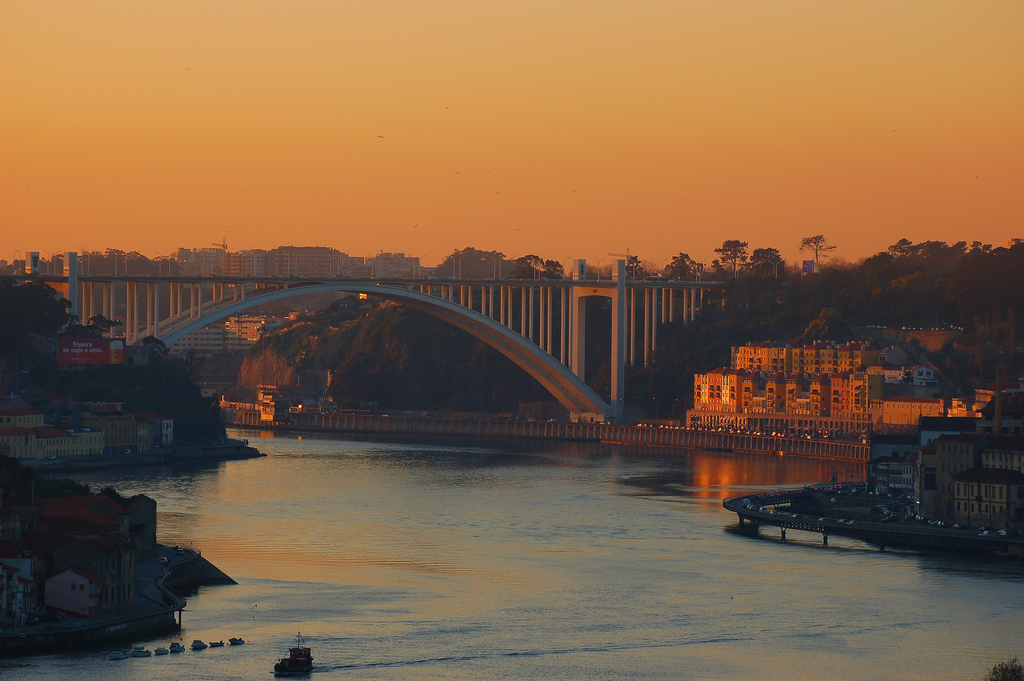arrabida: (0, 251, 741, 426)
